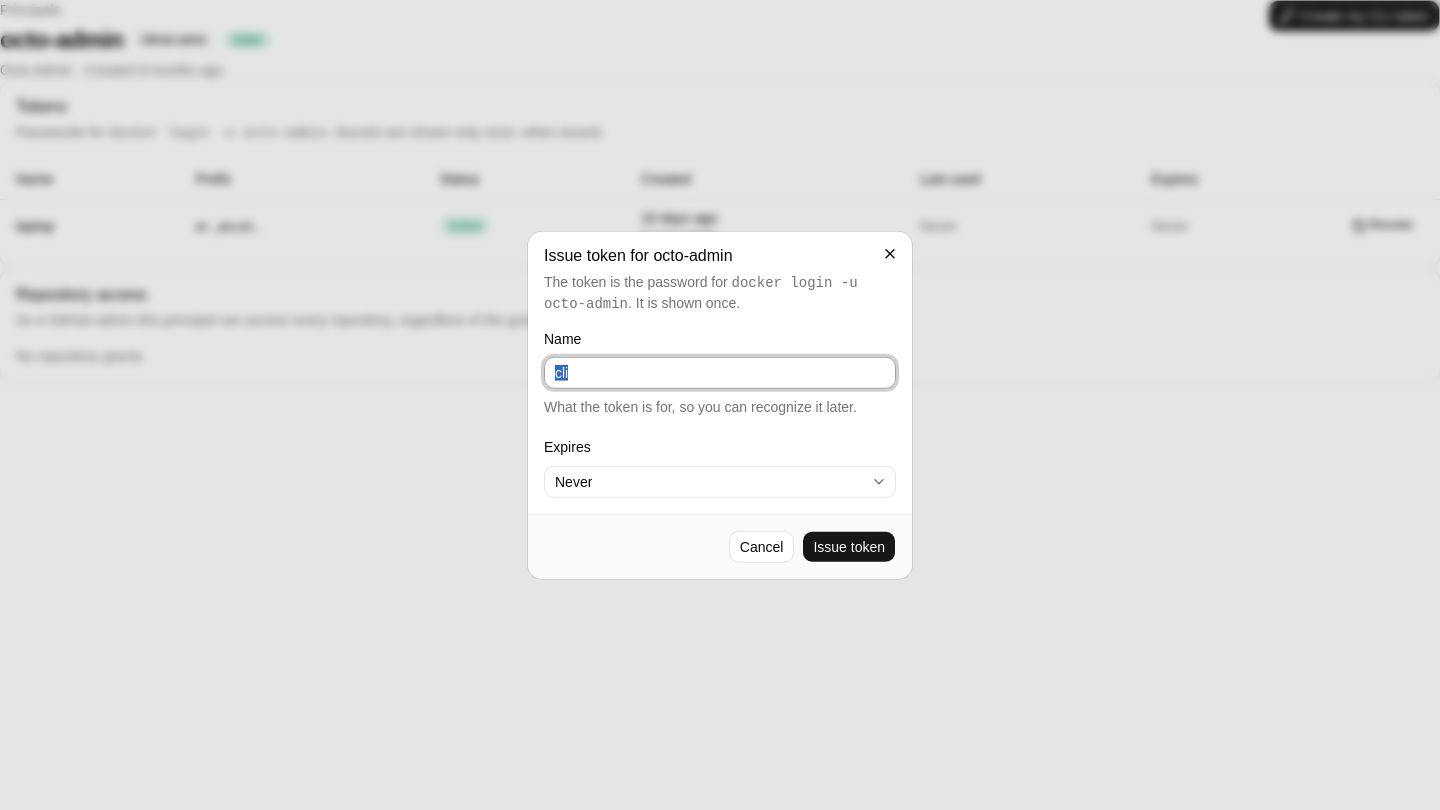
it: PrincipalDetailPage › lets the admin create their own CLI token and shows it once
The image size is (1440, 810).
Expected: the field labelled "Name" holds "cli", [544,357,896,389]
Click the button "Issue token" at (849, 546), box [802,530,896,562]
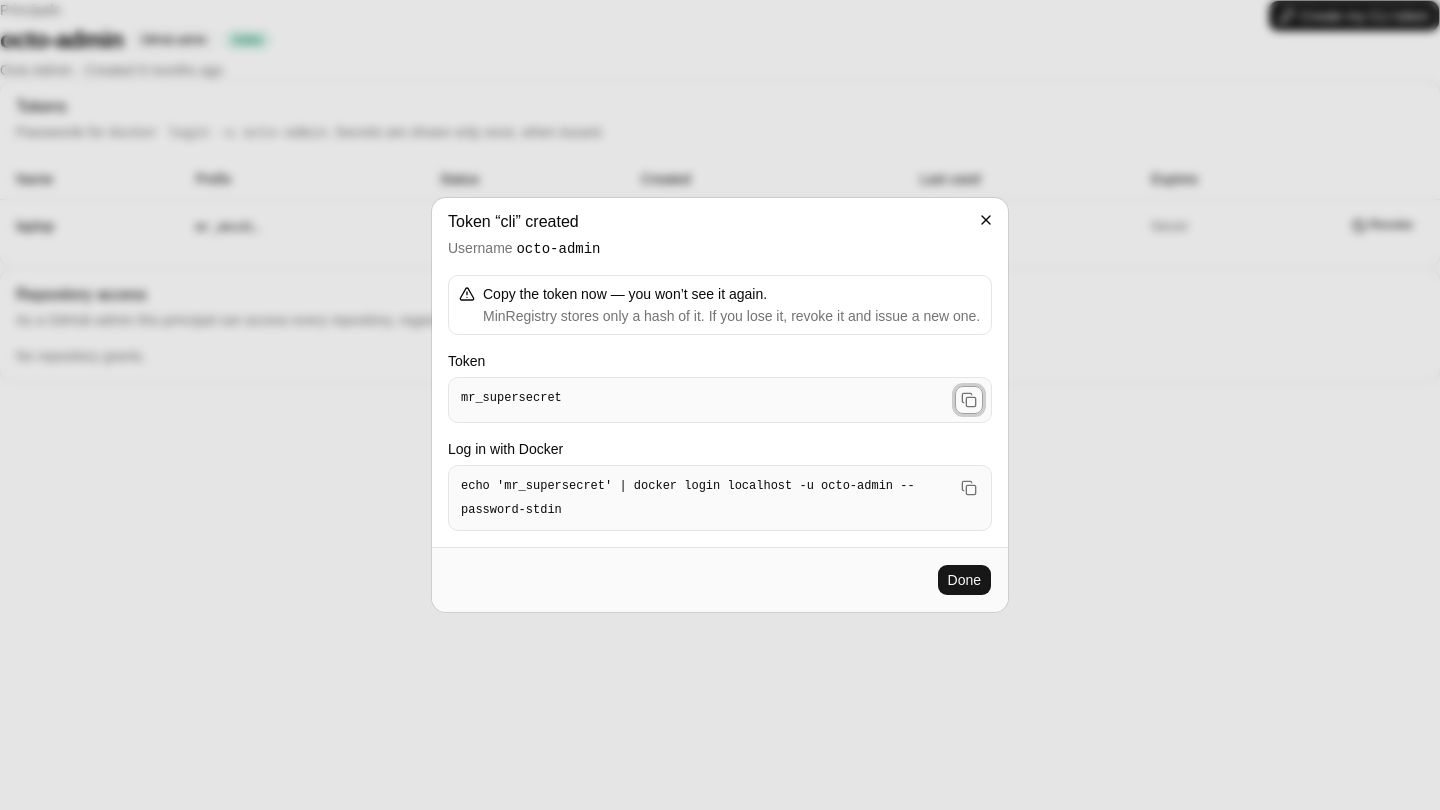
Now the text "Copy the token now — you won’t see it again." is shown, box [483,286,767,302]
